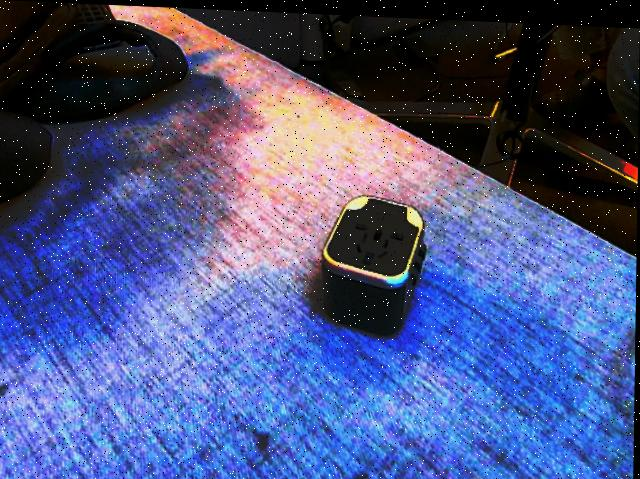adapter: (320, 189, 428, 333)
